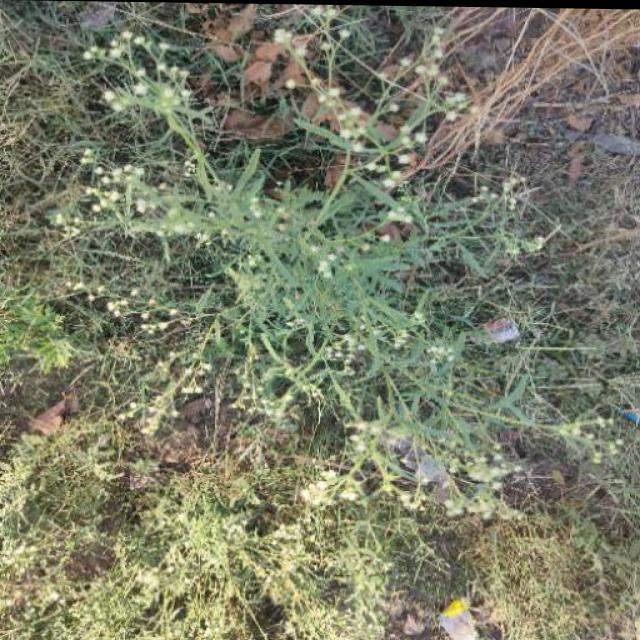weed: (19, 73, 526, 571)
